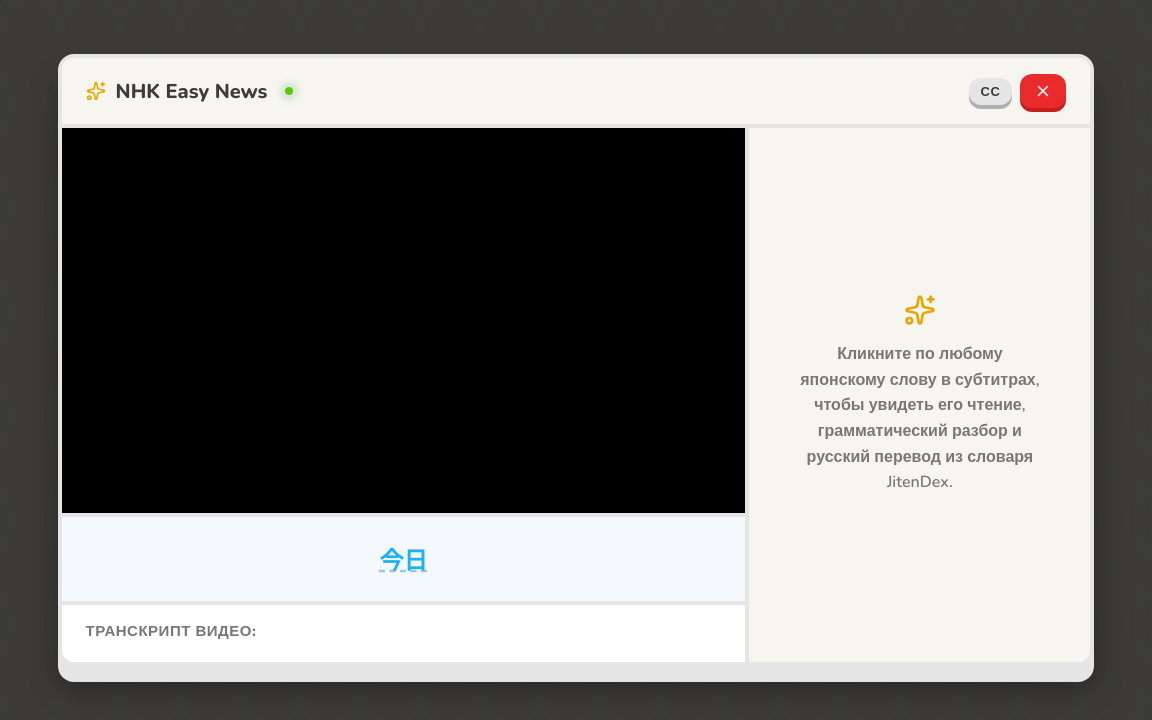
Scenario: MediaInteractivePlayer Component › submits note creation to Anki when "Добавить в Anki" is clicked
Click the text with test id "word-token": (404, 559) [372,537,436,581]
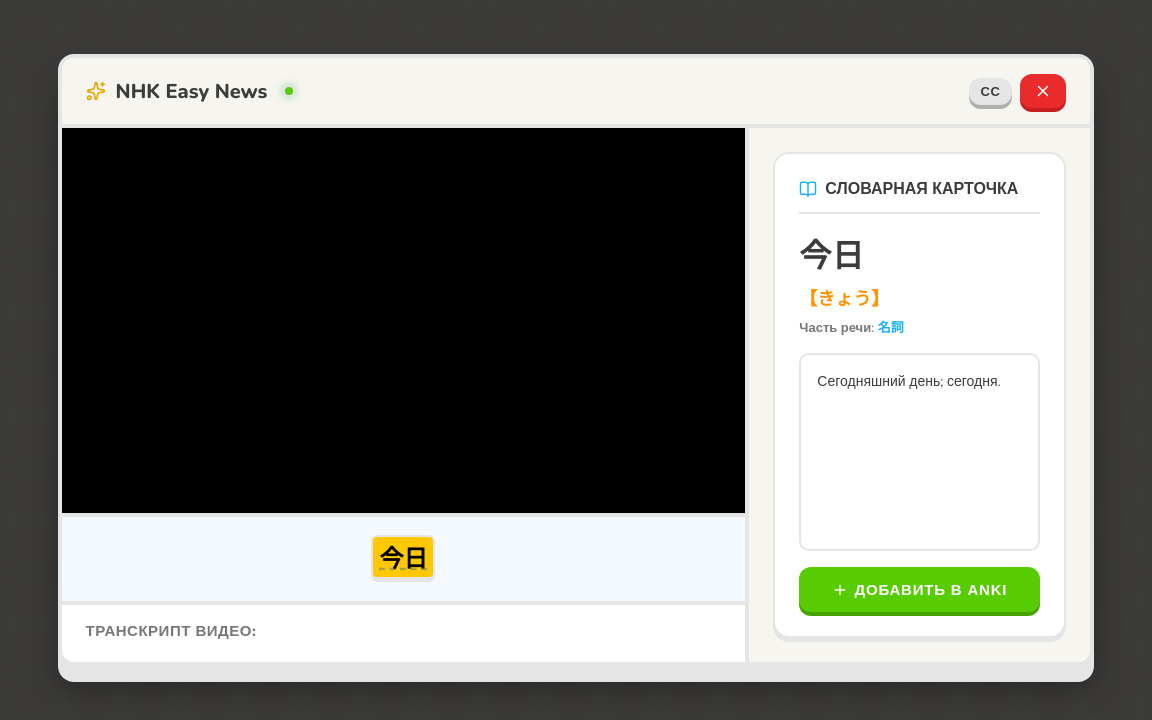
Expected: the button "Добавить в Anki" is shown
Click the button "Добавить в Anki": (920, 590) [799,567,1040,612]
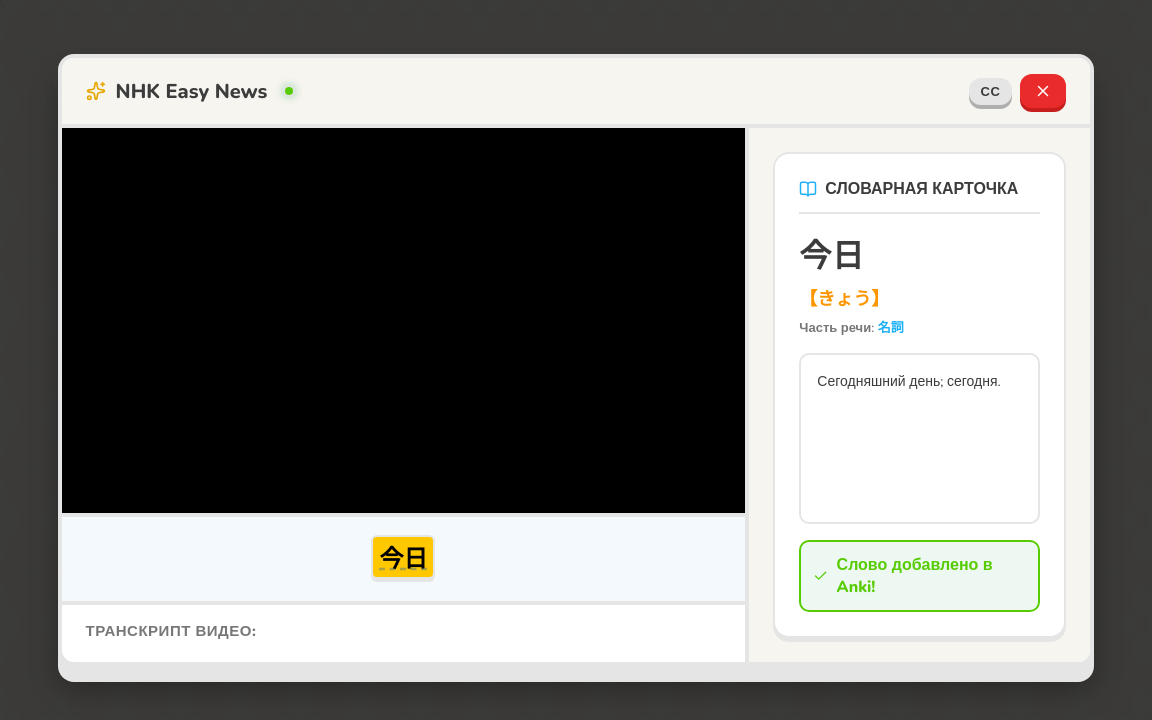
Expected: the text "Слово добавлено в Anki!" is shown, [837,554,993,598]
